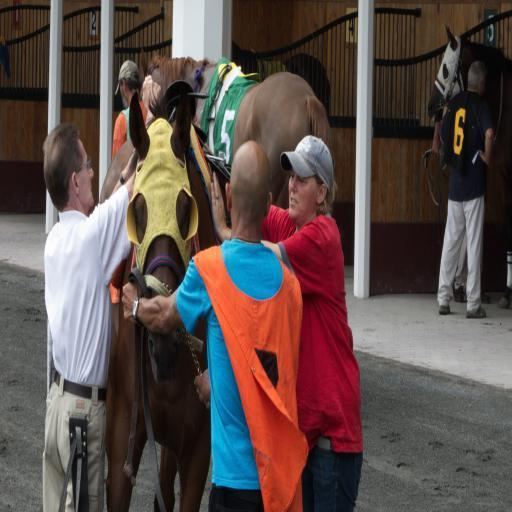horse: (99, 86, 214, 506), (138, 54, 336, 248), (430, 24, 510, 137)
